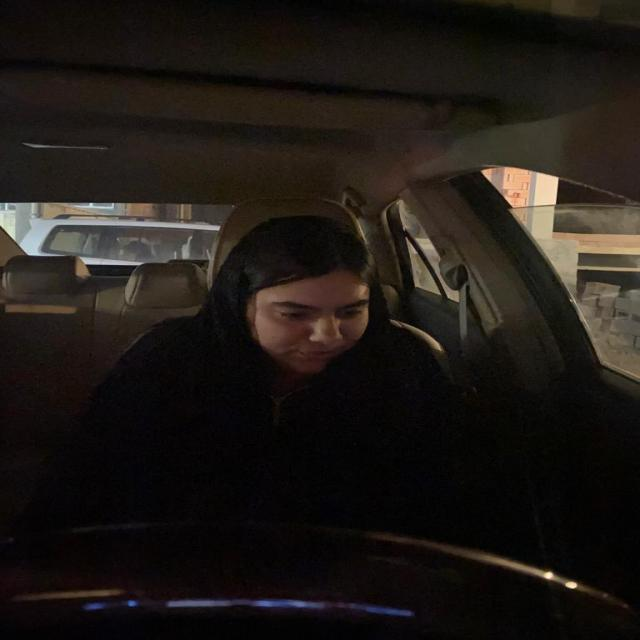person: (221, 208, 398, 383)
